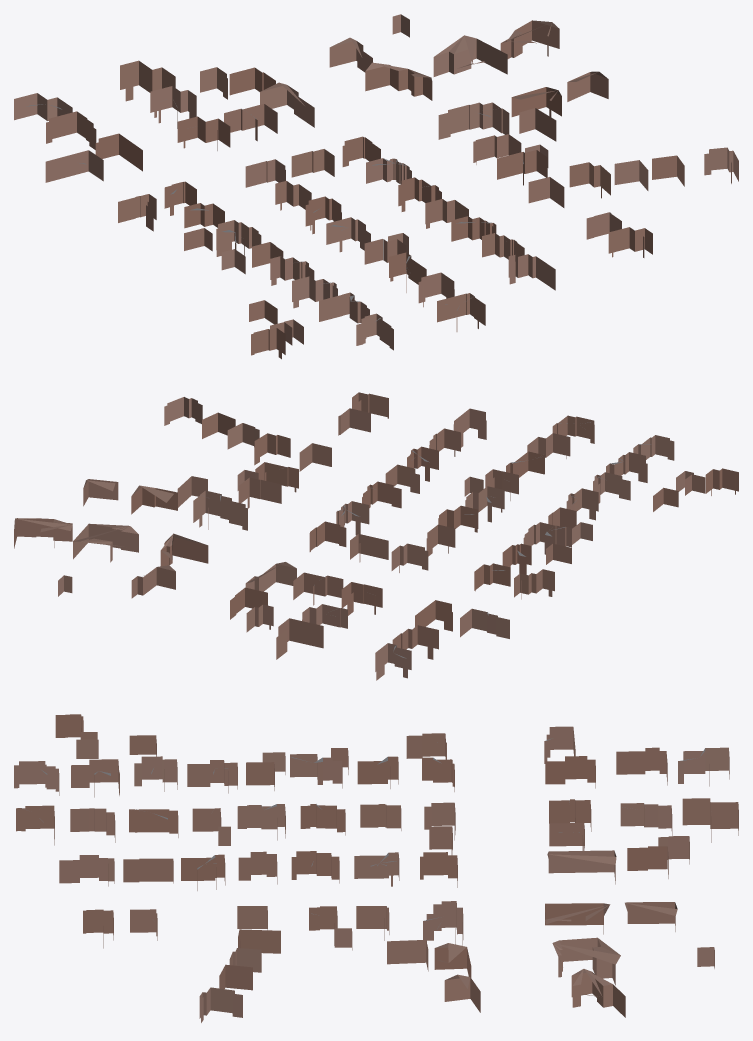
File: c_1643_17821_buildings_residential.glb
3 views of the same model, one above another, from view 1: azimuth 30°, elevation 25°; view 2: azimuth 150°, elevation 25°; view 3: azimuth 270°, elevation 25° (orthographic). The views are drawn at different scales.
Parts seen in each view (by area): view 1: geometry_0; view 2: geometry_0; view 3: geometry_0.
Boxes of the visible parts, left/top/right/bottom form: geometry_0: left=14, top=14, right=738, bottom=359; geometry_0: left=14, top=392, right=738, bottom=680; geometry_0: left=14, top=714, right=738, bottom=1022.
Bounding box in the file's own units: 257 × 11.08 × 272.
